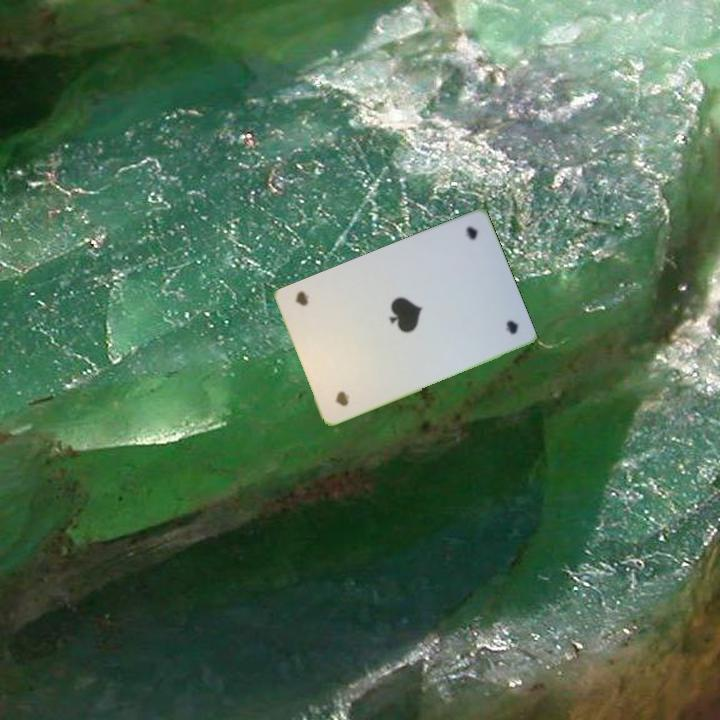s_a.png: (426, 219, 503, 301), (306, 333, 383, 415)
